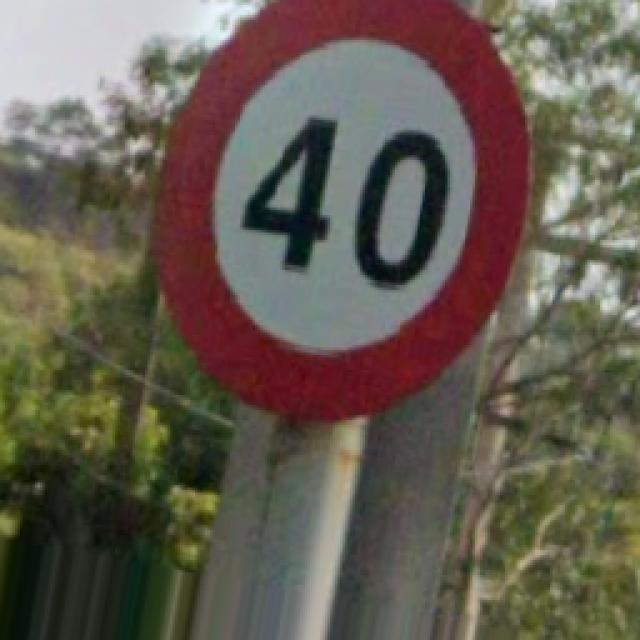Speed Limit -40-: (158, 0, 528, 420)
